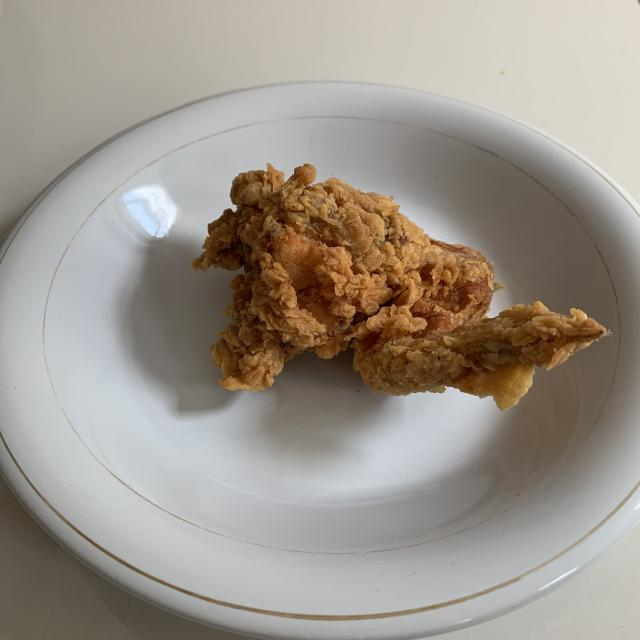Frango: (197, 159, 607, 414)
